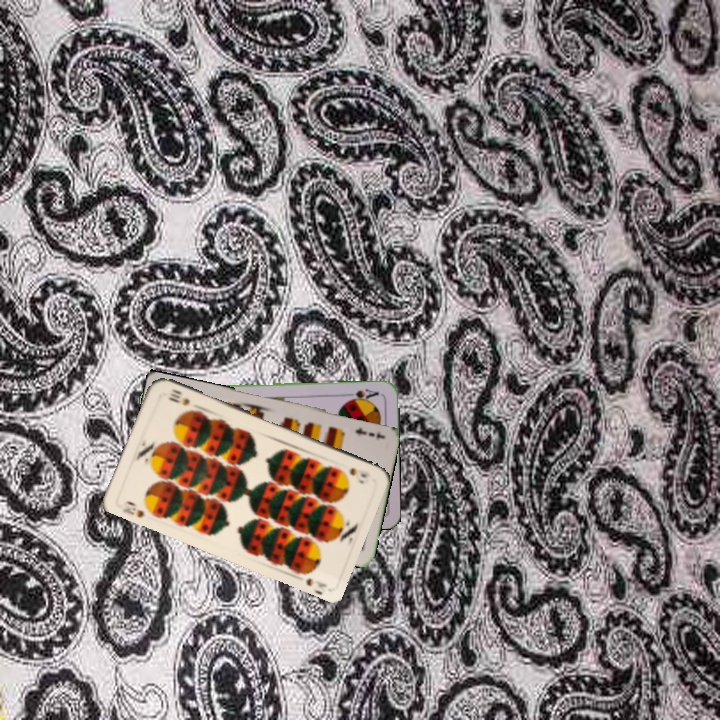E7: (352, 423, 377, 439)
S10: (119, 497, 147, 520), (344, 463, 373, 480)
SA: (343, 385, 381, 404)
